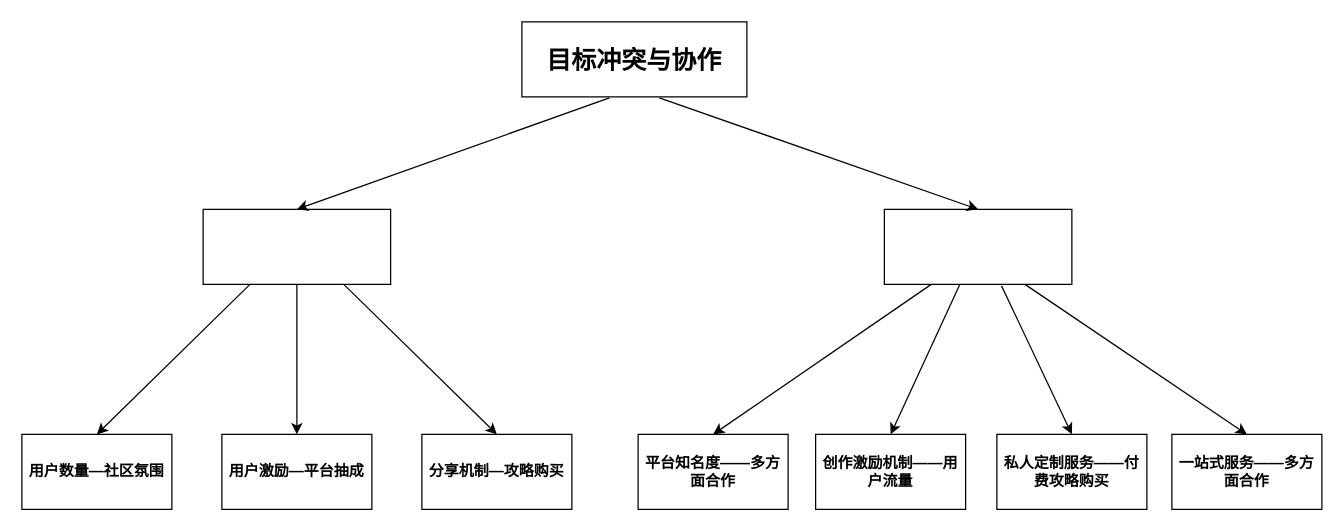
The diagram is 1344 pixels wide and 531 high, and some of its shapes have lost their labels. The shapes that lost their labels are listed below. From the top down, each one's box as (x1, y1, x2, y2) in pixels, then its label:
(202, 208, 391, 284): 目标冲突
(883, 208, 1072, 284): 目标协作
